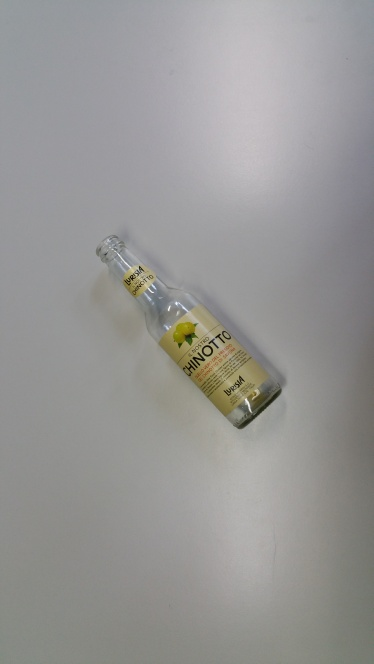bottle: (89, 228, 291, 435)
